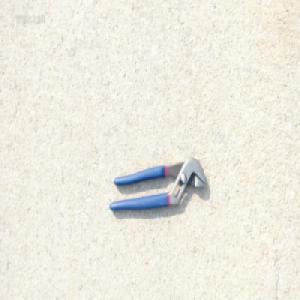Pliers: (108, 156, 207, 212)
